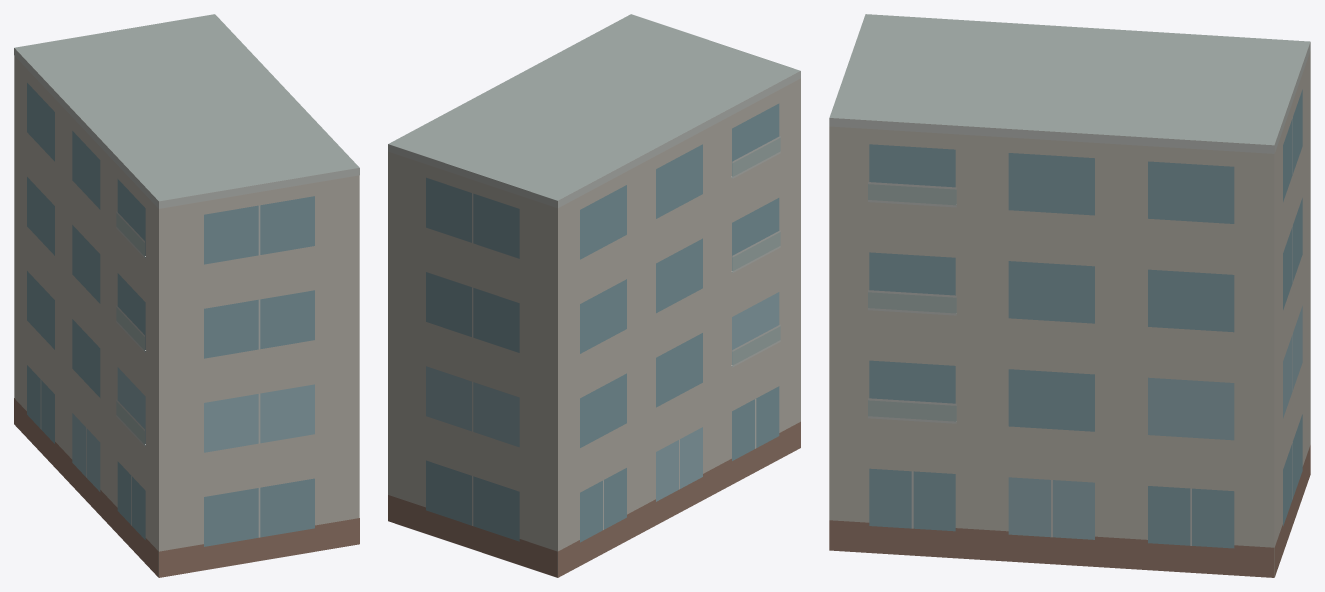
File: survey-upis-32640372.glb
3 views of the same model, side by side, from view 1: azimuth 30°, elevation 25°; view 2: azimuth 150°, elevation 25°; view 3: azimuth 270°, elevation 25° (orthographic). The views are drawn at different scales.
Visible parts, largest first — view 1: survey-upis-32640372.tmp; view 2: survey-upis-32640372.tmp; view 3: survey-upis-32640372.tmp.
Boxes of the visible parts, x1,y1,x2,y2 form: survey-upis-32640372.tmp: (14, 14, 359, 577); survey-upis-32640372.tmp: (388, 14, 800, 577); survey-upis-32640372.tmp: (829, 14, 1310, 577).
Size of the model in its own units: 7.95 by 12.2 by 12.31.
